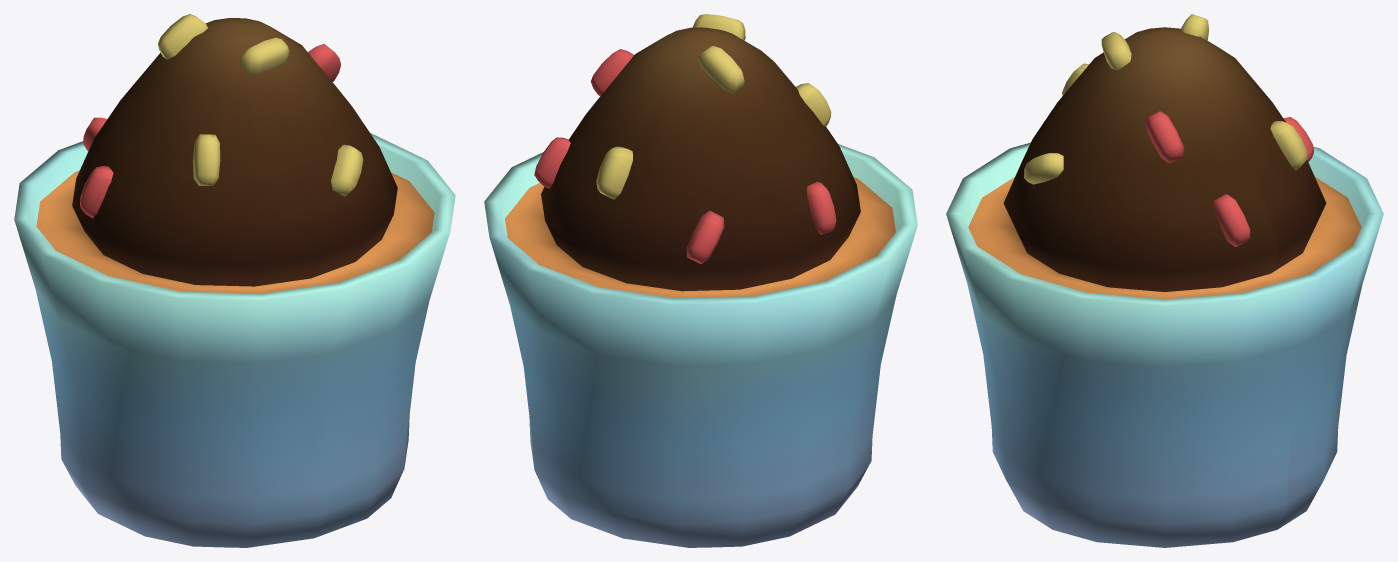
Rendered from Cupcake.fbx.
3 renders of one model, left to right at view 1: azimuth 30°, elevation 25°; view 2: azimuth 150°, elevation 25°; view 3: azimuth 270°, elevation 25°, orthographic.
Visible parts, largest first — view 1: Cupcake; view 2: Cupcake; view 3: Cupcake.
Part boxes in pixels (x1,y1,x2,y2): Cupcake: (14,14,455,547); Cupcake: (484,14,917,547); Cupcake: (946,14,1383,547).
Size of the model in its own units: 6.05 by 7.1 by 6.05.
